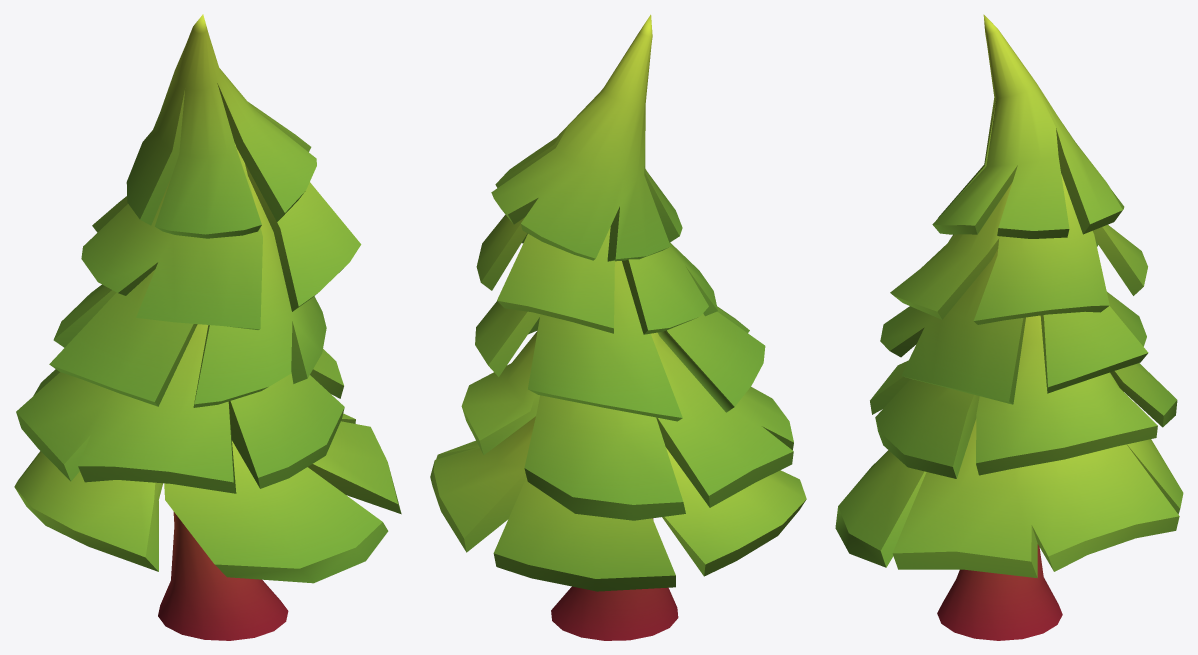
Rendered from Pine_mid.fbx.
3 views of the same model, side by side, from view 1: azimuth 30°, elevation 25°; view 2: azimuth 150°, elevation 25°; view 3: azimuth 270°, elevation 25° (orthographic). The views are drawn at different scales.
Visible parts, largest first — view 1: Pine_Mid; view 2: Pine_Mid; view 3: Pine_Mid.
Boxes of the visible parts, x1,y1,x2,y2 form: Pine_Mid: [14, 14, 401, 640]; Pine_Mid: [430, 14, 806, 640]; Pine_Mid: [835, 14, 1183, 640].
Size of the model in its own units: 1.22 by 2.06 by 1.11.
1 material, 1 textured.
